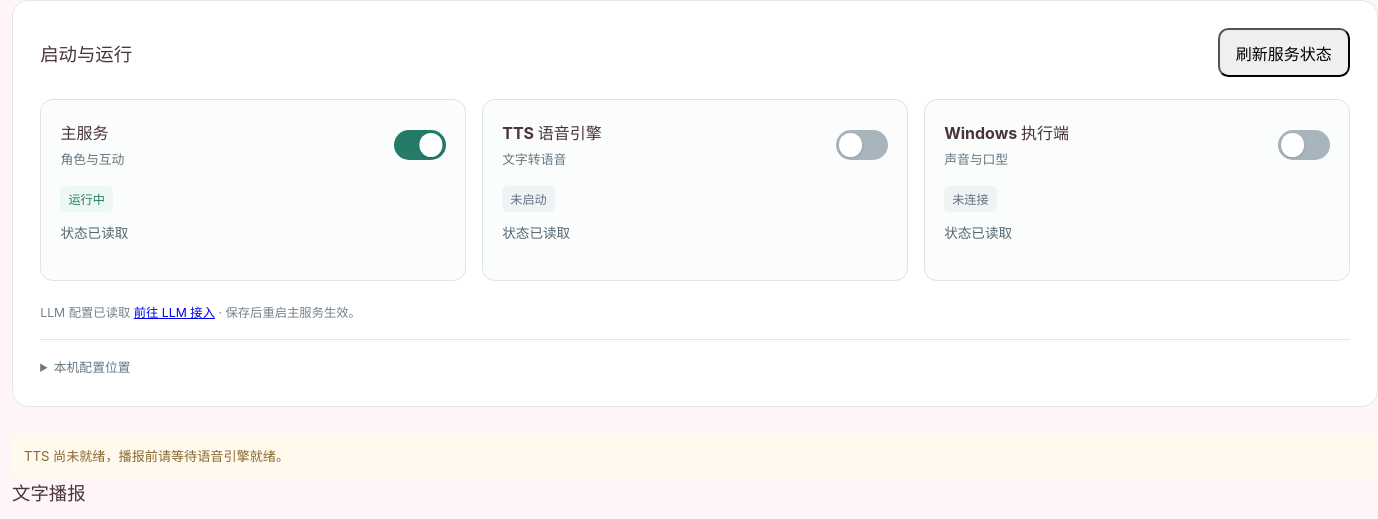
it: lets the user stop the running main service from its switch
The image size is (1378, 519).
Click the switch named "主服务". click: x=420, y=145
box: [394, 130, 446, 160]
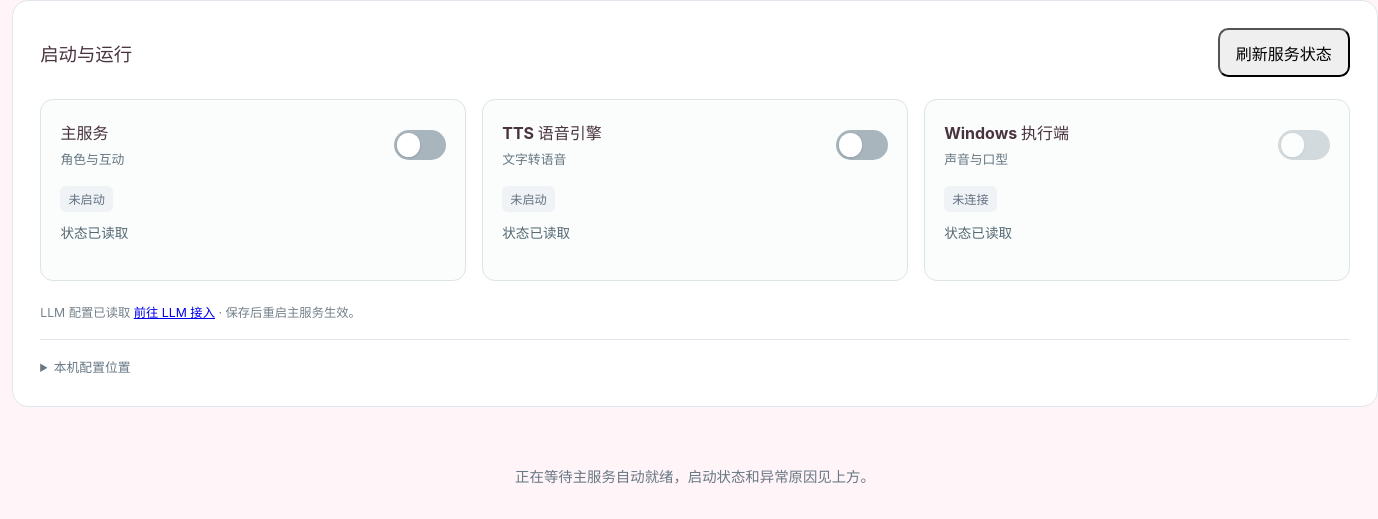
expect the switch named "主服务" is not checked: met, box [394, 130, 446, 160]
expect the heading "文字播报" is gone: met
expect the switch named "Windows 执行端" is disabled: met, box [1278, 130, 1330, 160]
